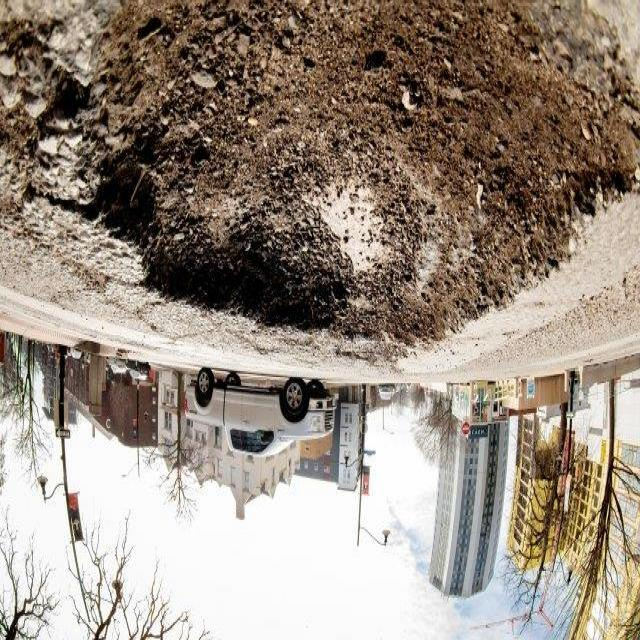lubang: (0, 8, 638, 388)
